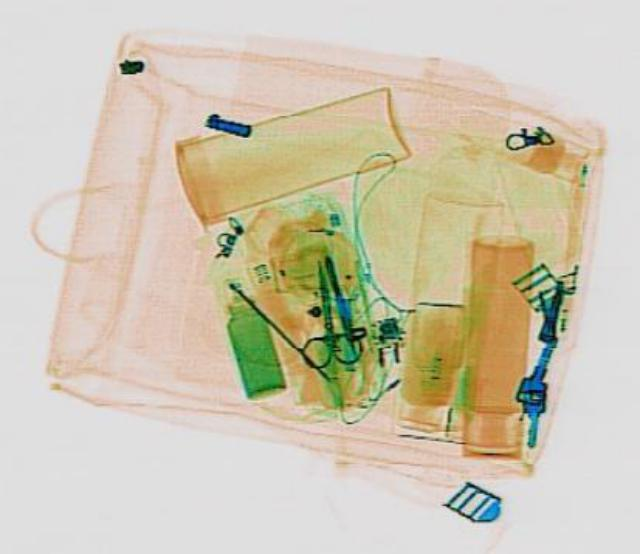Scissors: (284, 255, 362, 365)
